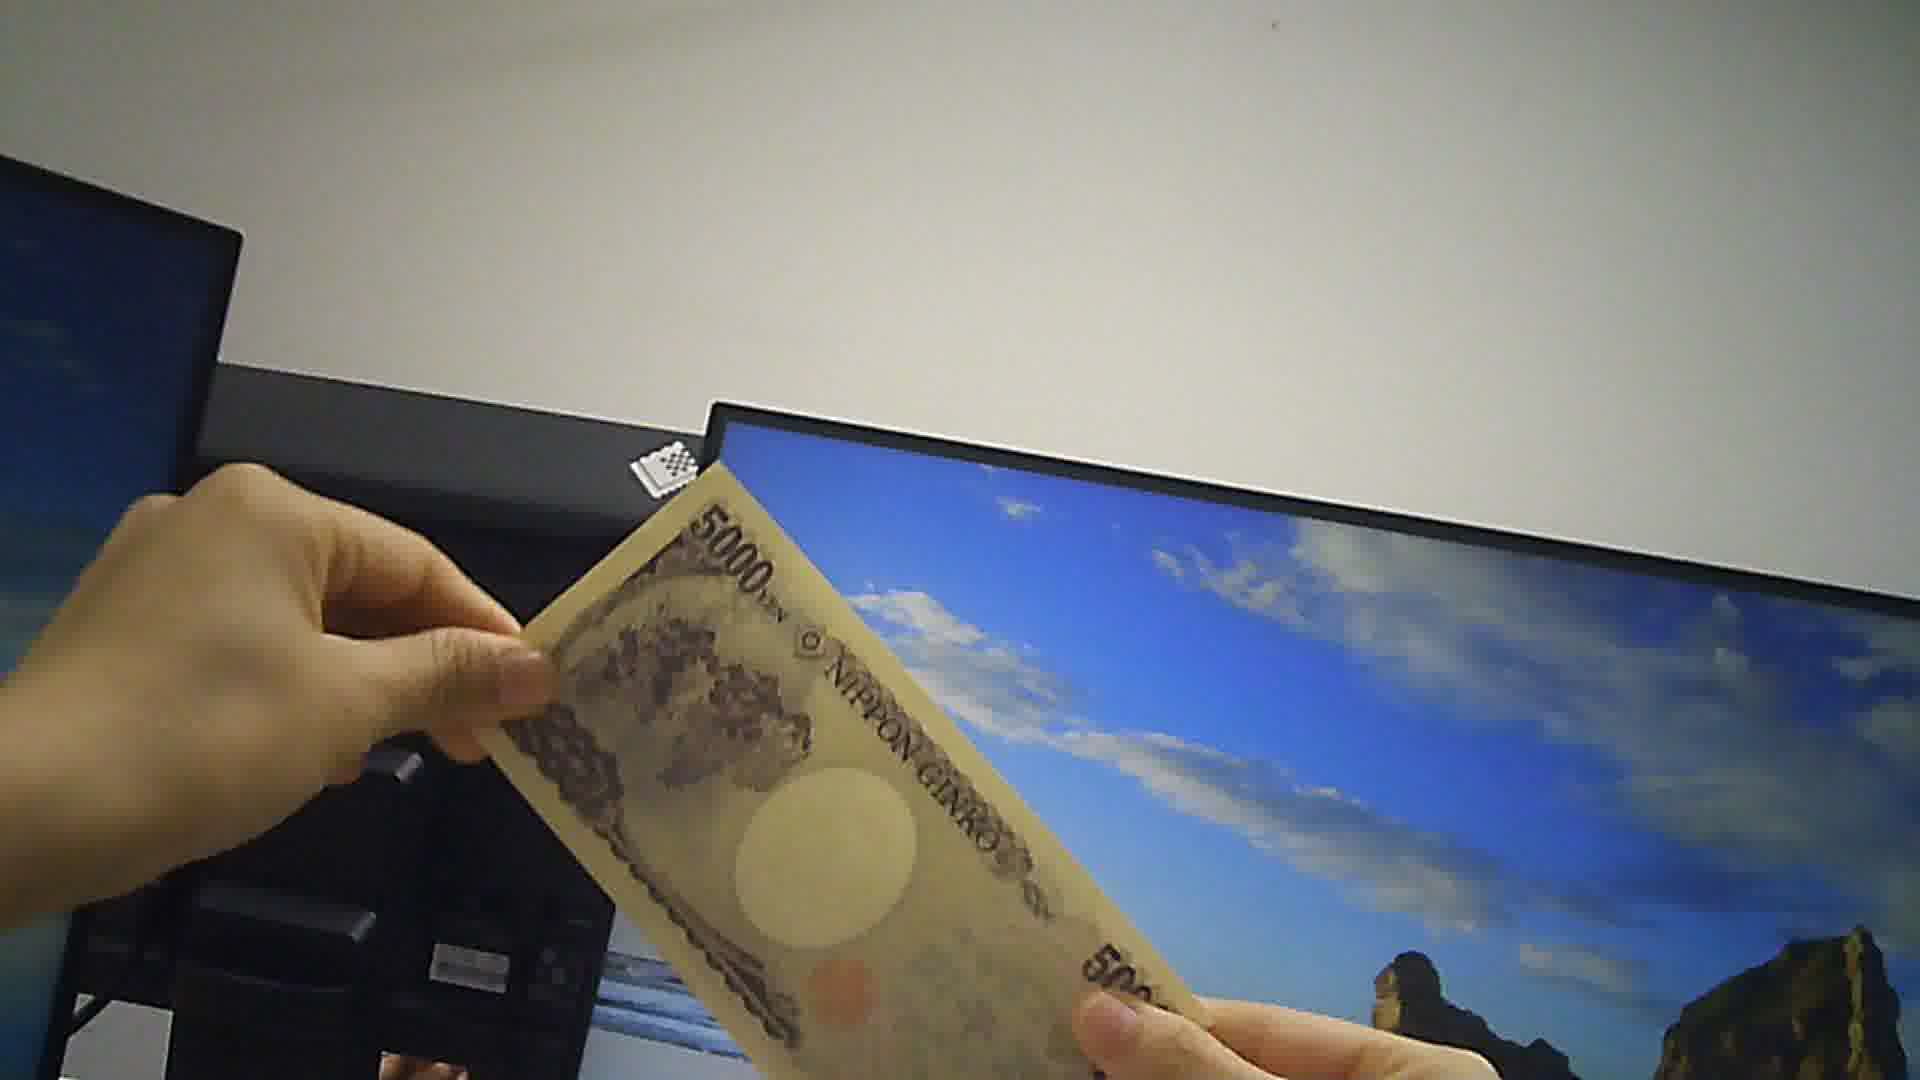5,000 Yen: (444, 456, 1244, 1079)
